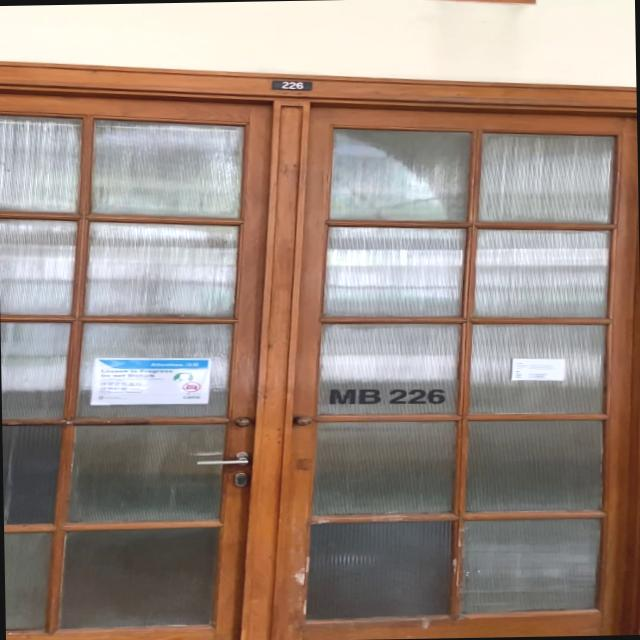room226: (268, 75, 316, 94)
room226Window: (322, 382, 450, 408)
